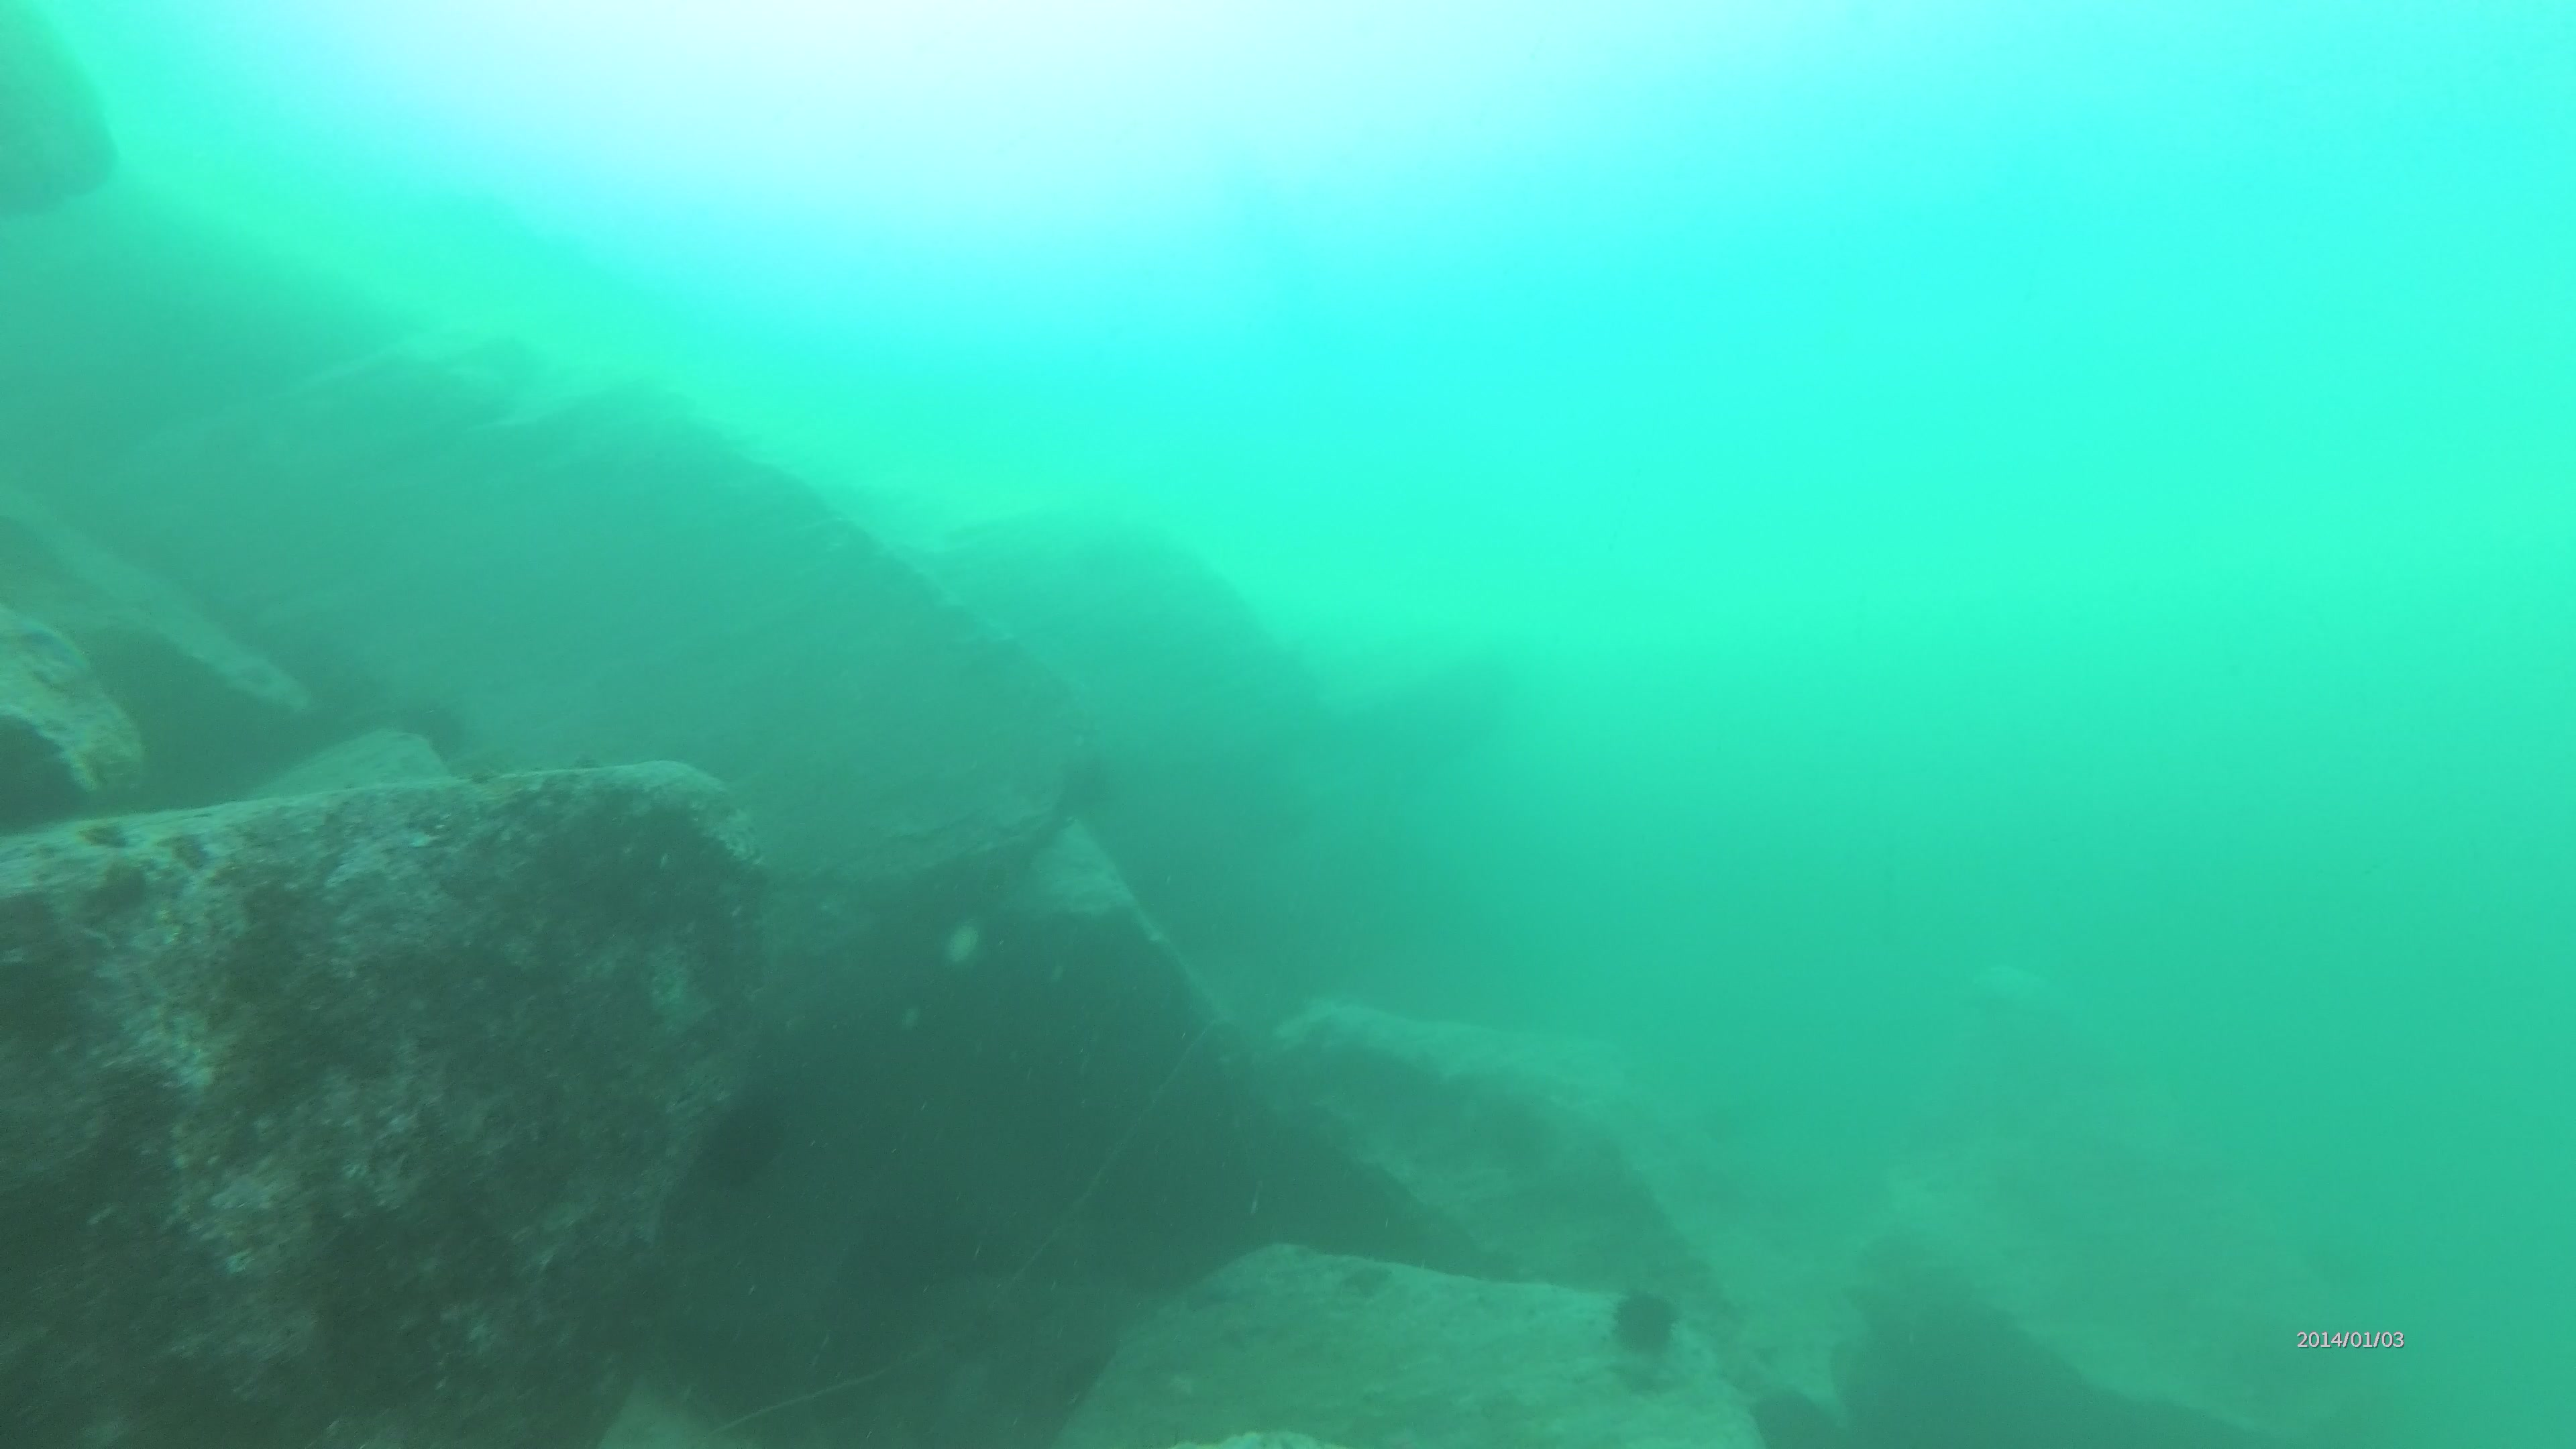echinus: (1608, 1277, 1683, 1369)
